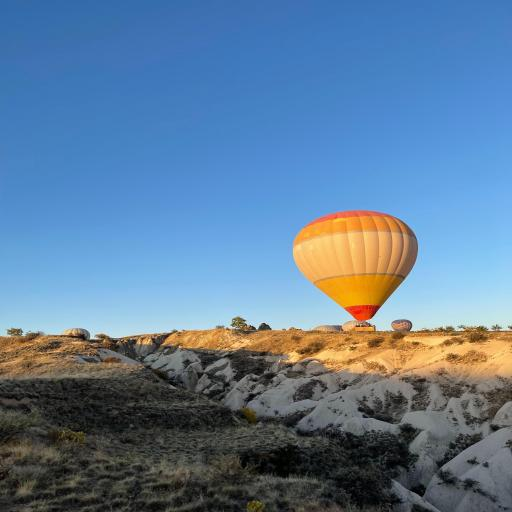hot air ballon: (291, 210, 419, 332), (391, 319, 413, 331)
